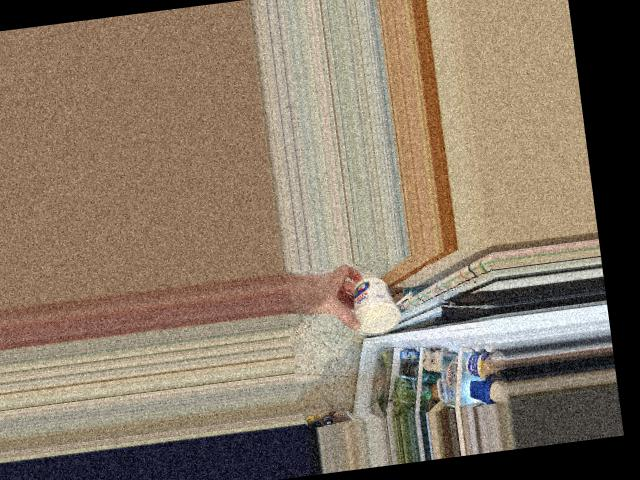cotage: (346, 276, 401, 341)
